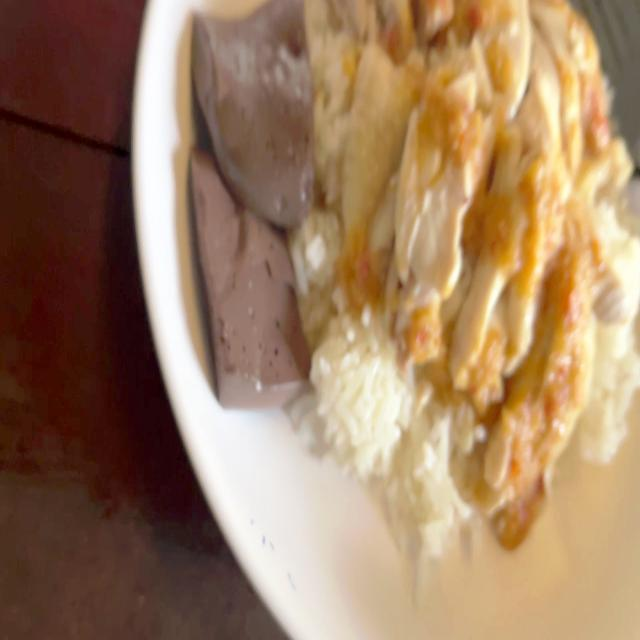boiled_chicken: (348, 0, 594, 517)
boiled_chicken_blood_jelly: (191, 143, 297, 414), (192, 0, 310, 218)
chicken_rice: (194, 0, 639, 559)
